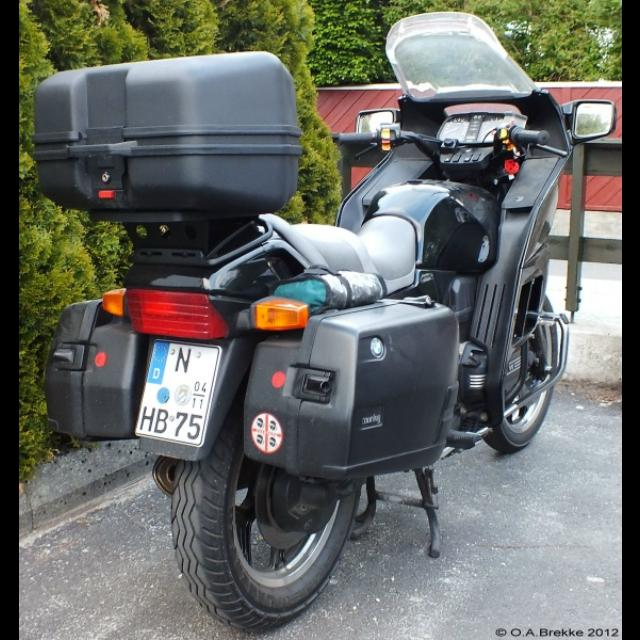d_license_plate: (133, 338, 219, 444)
